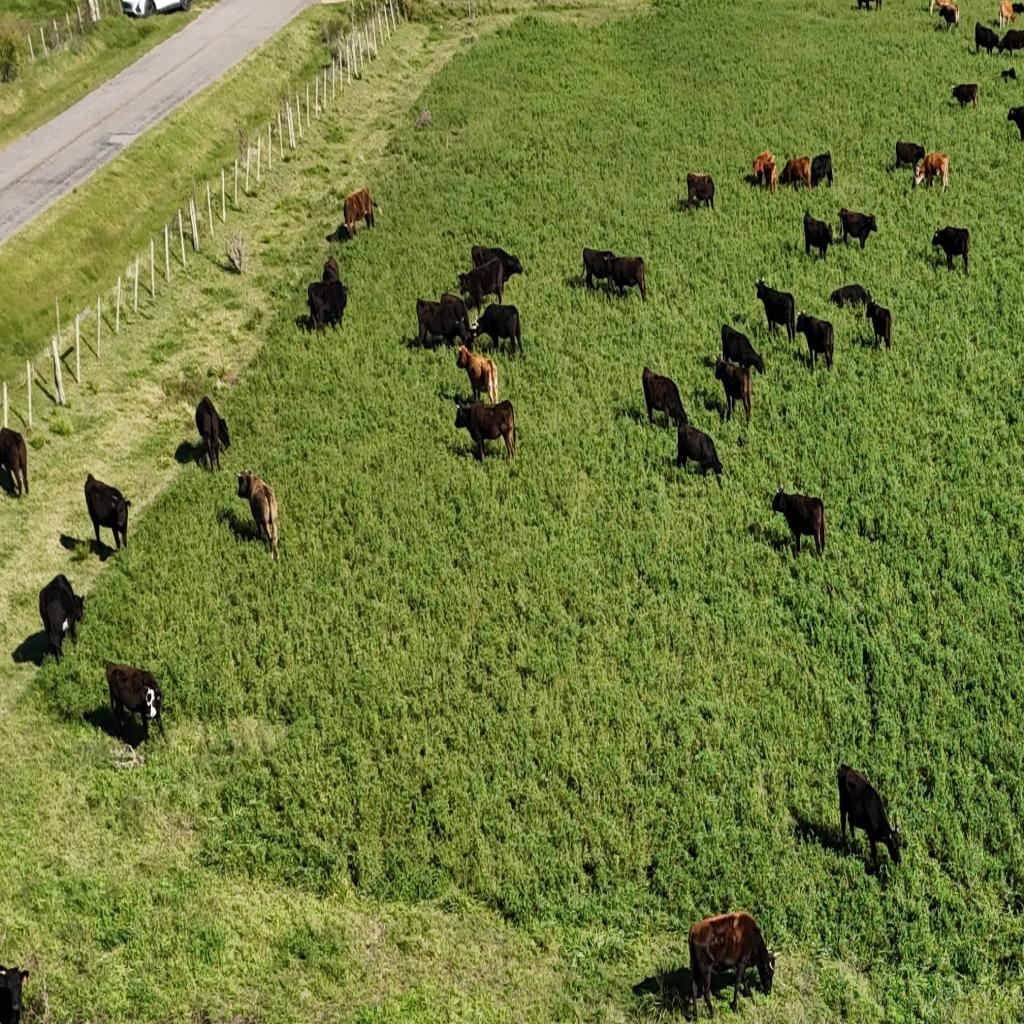cow: (689, 912, 781, 1019), (837, 765, 904, 872), (105, 660, 167, 743), (453, 397, 518, 463), (38, 573, 84, 662), (771, 485, 826, 559), (84, 472, 132, 556), (237, 469, 279, 560), (664, 420, 720, 485), (415, 296, 472, 350), (471, 302, 523, 360), (714, 355, 752, 428), (455, 344, 499, 406), (456, 258, 506, 312), (196, 396, 231, 470), (756, 278, 796, 342), (306, 278, 350, 334), (642, 366, 681, 428), (470, 244, 523, 288), (796, 310, 834, 371), (722, 325, 764, 377), (605, 252, 646, 303), (342, 186, 381, 238), (0, 426, 28, 498), (913, 153, 953, 199), (932, 222, 970, 270), (0, 964, 30, 1023), (744, 146, 777, 195), (582, 247, 618, 290), (842, 208, 878, 250), (803, 212, 834, 260), (865, 300, 892, 352), (829, 284, 872, 312), (892, 143, 928, 176), (780, 155, 812, 192), (1000, 96, 1024, 144), (686, 172, 714, 210), (999, 22, 1024, 60), (810, 151, 834, 189), (975, 20, 1000, 55), (992, 59, 1022, 86), (951, 82, 978, 110), (470, 244, 496, 270), (939, 4, 960, 32), (997, 0, 1017, 28), (323, 255, 342, 283), (456, 272, 472, 292), (928, 0, 944, 16), (855, 0, 875, 11), (1016, 1, 1024, 15)
